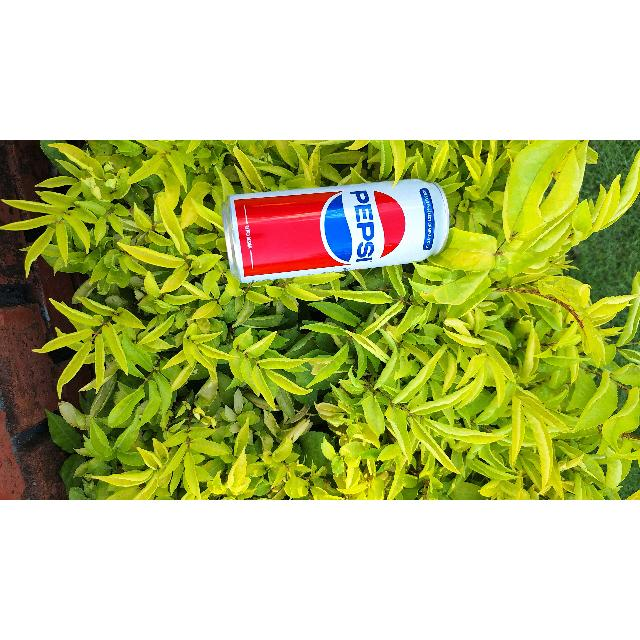Pepsi Retro: (222, 175, 448, 282)
